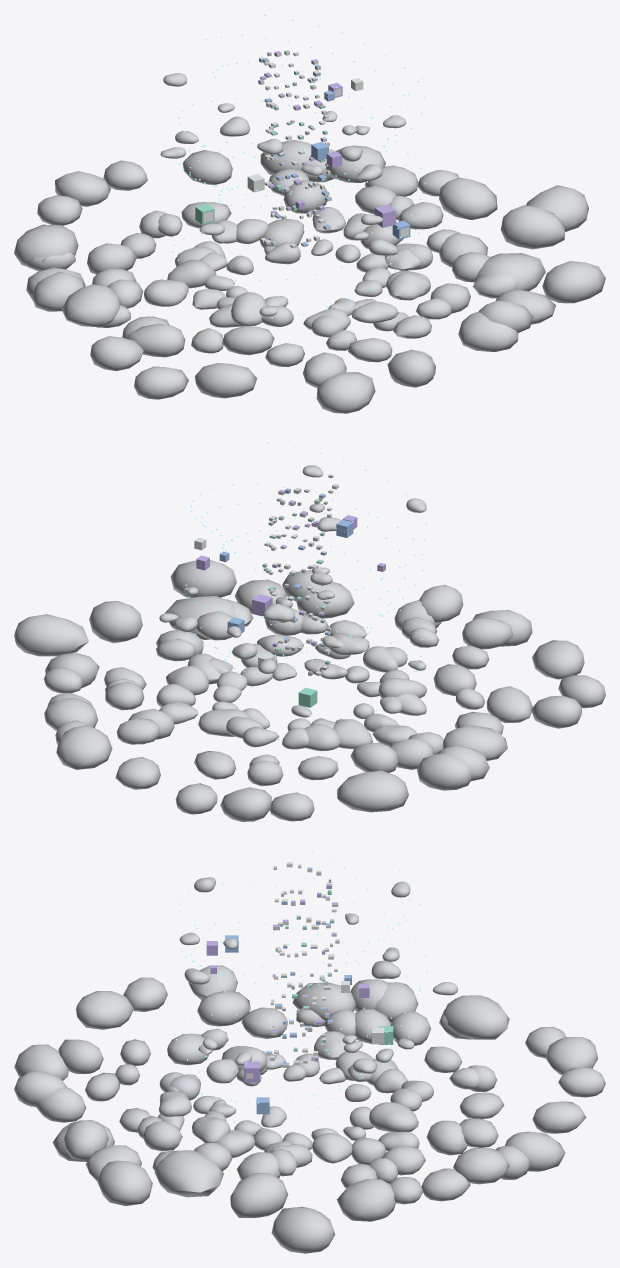
File: zone-3.glb
The picture shows the model from 3 angles, top to bottom: view 1: azimuth 30°, elevation 25°; view 2: azimuth 150°, elevation 25°; view 3: azimuth 270°, elevation 25°; orthographic projection. The views are drawn at different scales.
Parts seen in each view (by area): view 1: z3_scenery__cloud__noshadow, z3_scenery__data-lilac, z3_scenery__data-blue, z3_scenery__data-white, z3_scenery__data-bit; view 2: z3_scenery__cloud__noshadow, z3_scenery__data-lilac, z3_scenery__data-blue, z3_scenery__data-bit, z3_scenery__data-mint; view 3: z3_scenery__cloud__noshadow, z3_scenery__data-lilac, z3_scenery__data-blue, z3_scenery__data-bit, z3_scenery__data-white.
Part boxes in pixels (left/top/right/bottom): z3_scenery__cloud__noshadow: left=14, top=73, right=605, bottom=413; z3_scenery__data-lilac: left=260, top=51, right=396, bottom=243; z3_scenery__data-blue: left=262, top=58, right=410, bottom=246; z3_scenery__data-white: left=247, top=53, right=363, bottom=247; z3_scenery__data-bit: left=172, top=14, right=425, bottom=318; z3_scenery__cloud__noshadow: left=14, top=465, right=605, bottom=821; z3_scenery__data-lilac: left=196, top=475, right=385, bottom=675; z3_scenery__data-blue: left=219, top=488, right=353, bottom=646; z3_scenery__data-bit: left=184, top=442, right=426, bottom=740; z3_scenery__data-mint: left=264, top=500, right=327, bottom=707; z3_scenery__cloud__noshadow: left=14, top=877, right=605, bottom=1253; z3_scenery__data-lilac: left=206, top=883, right=369, bottom=1082; z3_scenery__data-blue: left=225, top=867, right=351, bottom=1114; z3_scenery__data-bit: left=173, top=850, right=427, bottom=1123; z3_scenery__data-white: left=270, top=889, right=384, bottom=1058.
Bounding box in the file's own units: 230 × 100 × 219.
Materials: 12 (7 with a texture image).
